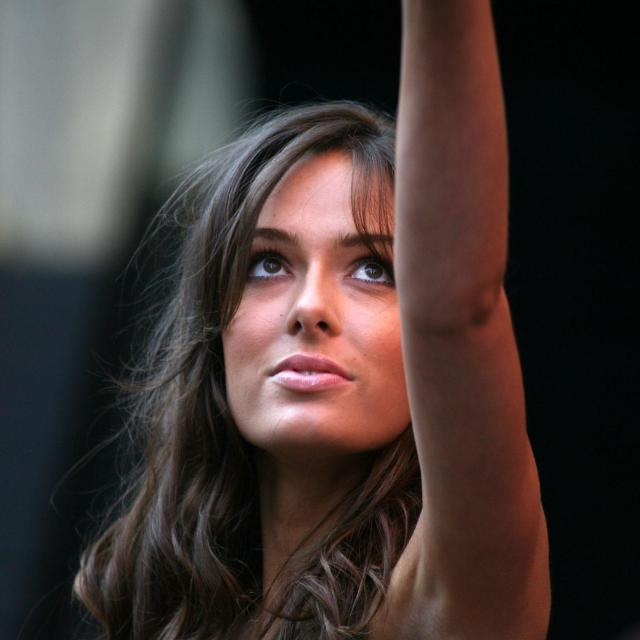no-glass: (231, 252, 398, 295)
